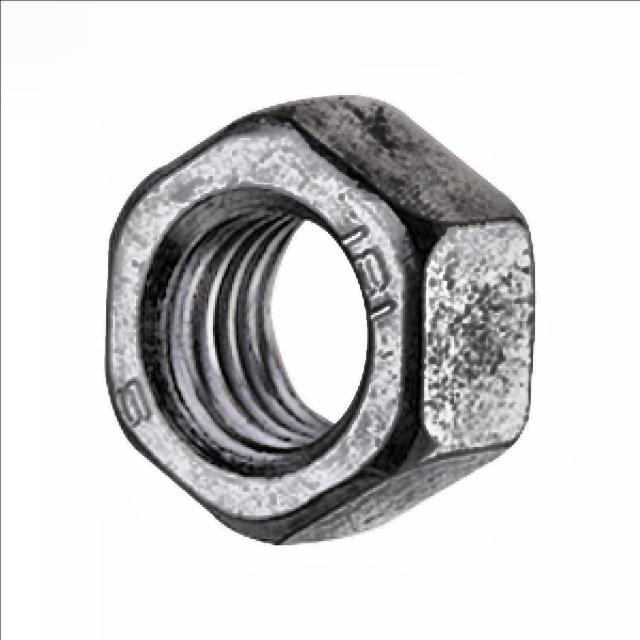Nut Detection - v1 Nut Dataset: (90, 84, 555, 554)
